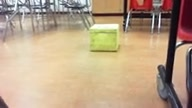cube: (89, 24, 119, 51)
